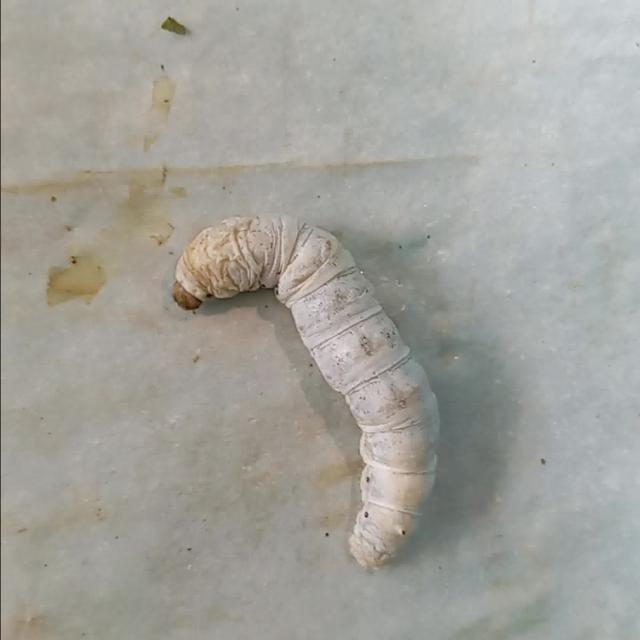Grasserie: (155, 188, 455, 575)
